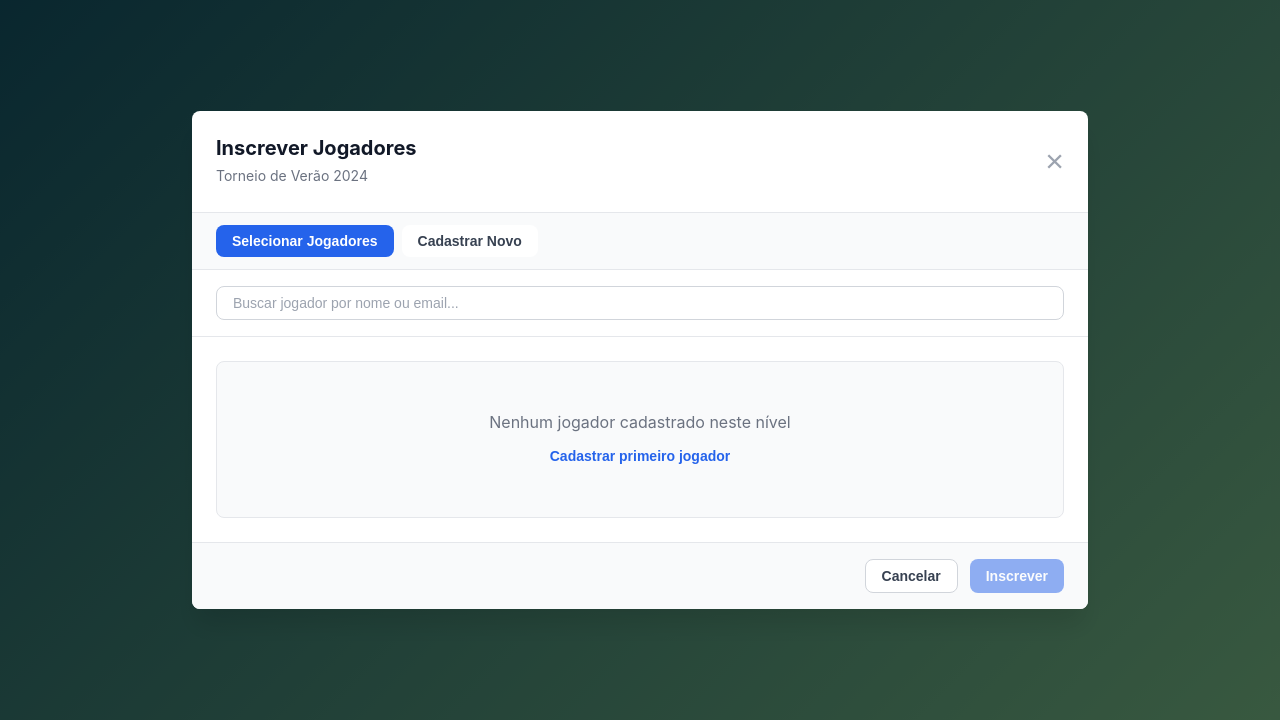
Test: ModalInscricao › estado vazio › deve ir para cadastro ao clicar no link
This screenshot has width=1280, height=720.
Click the button "Cadastrar primeiro jogador". click: [640, 456]
box: [550,448,730,464]
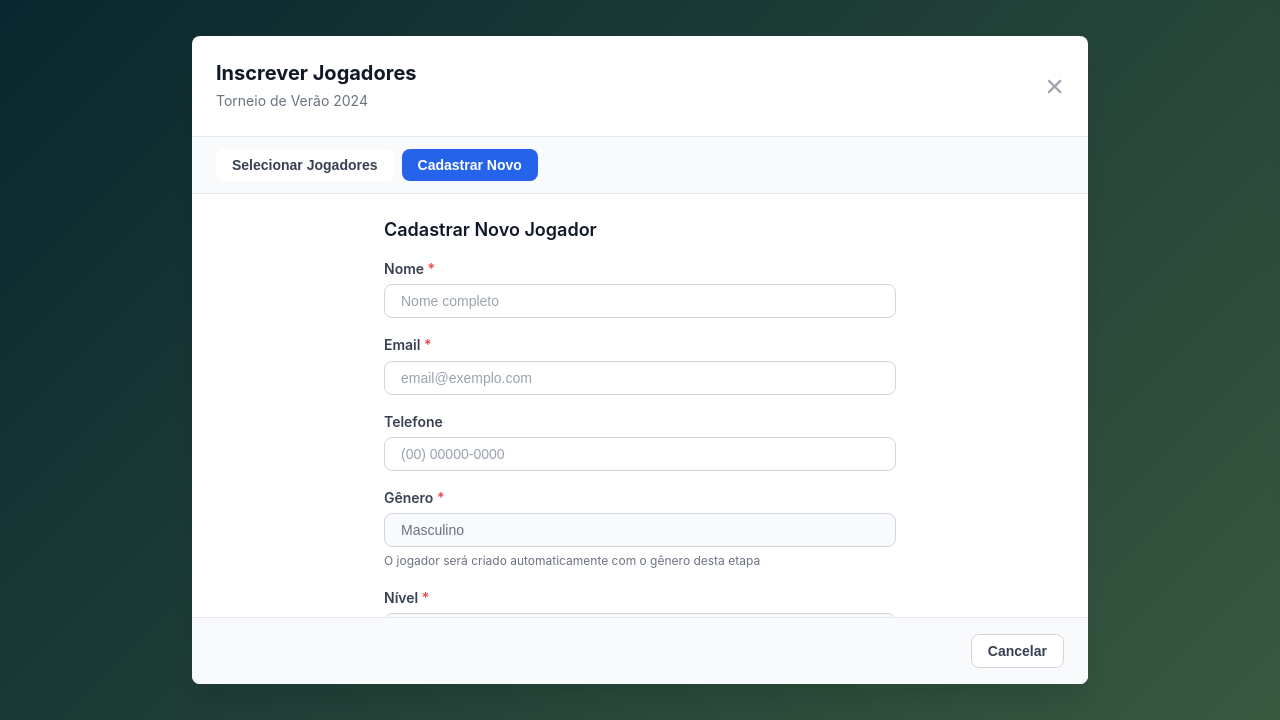
Result: the heading "Cadastrar Novo Jogador" is shown at [384,219,597,240]
